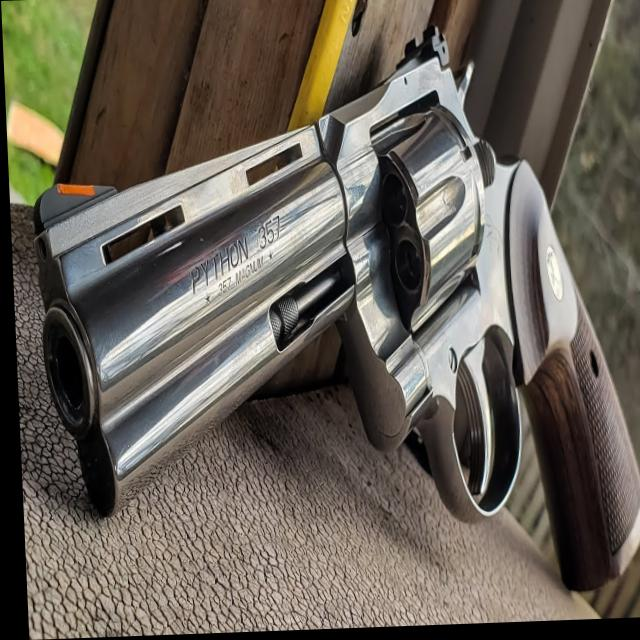handgun: (23, 29, 640, 593)
